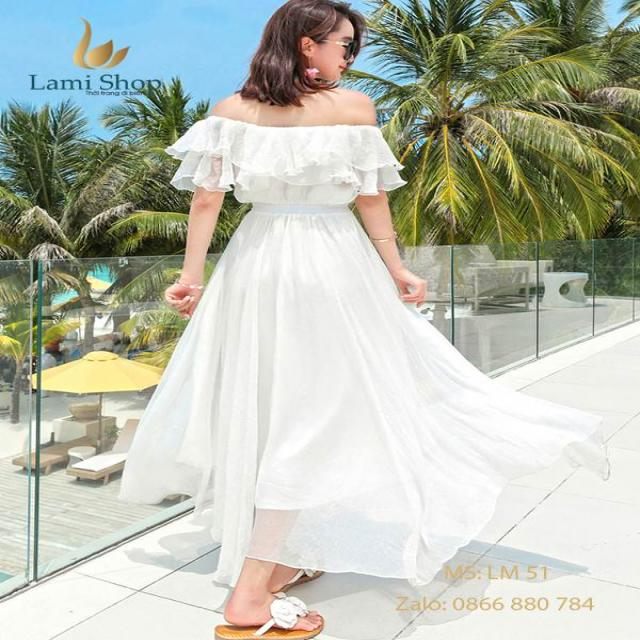clothes: (119, 94, 594, 588)
